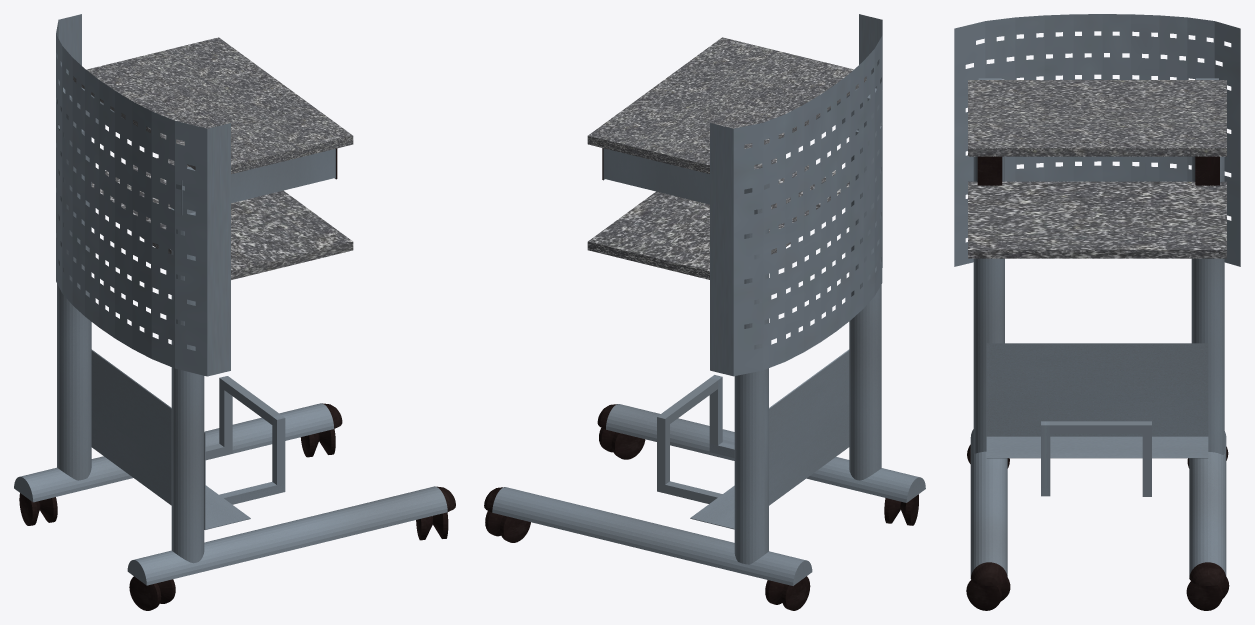
The model's file is rolltisch.fbx.
The picture shows the model from 3 angles, left to right: view 1: azimuth 30°, elevation 25°; view 2: azimuth 150°, elevation 25°; view 3: azimuth 270°, elevation 25°; orthographic projection. The views are drawn at different scales.
Parts seen in each view (by area): view 1: Rolltisch; view 2: Rolltisch; view 3: Rolltisch.
Boxes of the visible parts, x1,y1,x2,y2 form: Rolltisch: [14, 14, 455, 610]; Rolltisch: [484, 14, 925, 610]; Rolltisch: [954, 14, 1240, 610].
Size of the model in its own units: 76.11 by 111 by 62.
